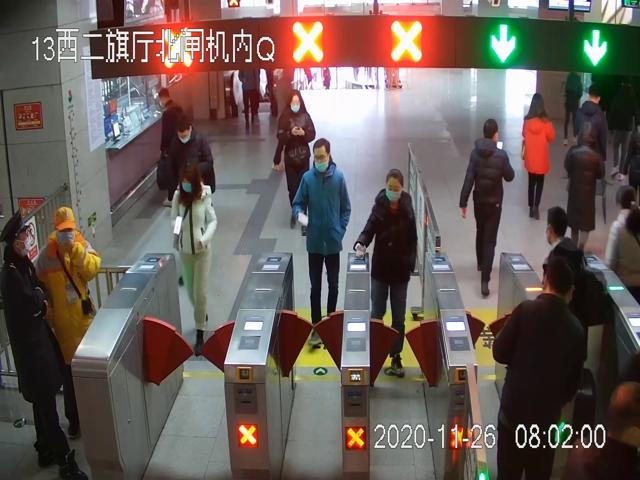person: (1, 208, 89, 480), (493, 255, 583, 480), (36, 206, 103, 437), (354, 166, 417, 374), (296, 138, 353, 348), (458, 116, 516, 295), (169, 166, 218, 359), (167, 117, 213, 288), (277, 89, 318, 227), (520, 93, 556, 219)
